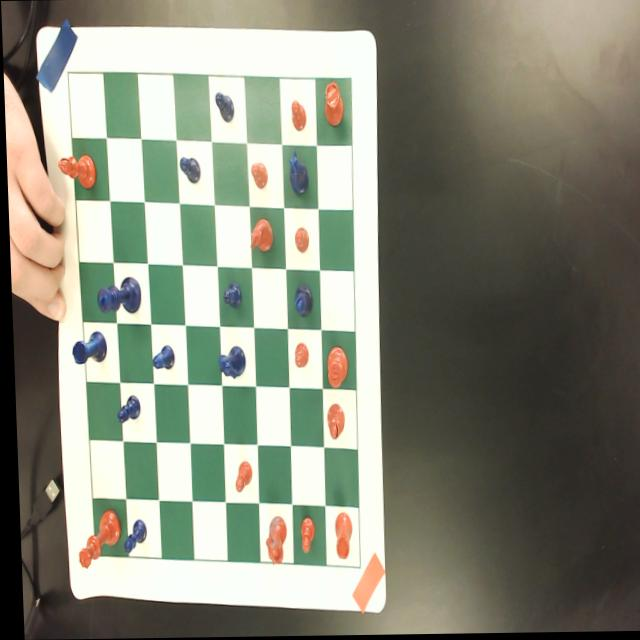B: (290, 282, 310, 319)
K: (94, 274, 139, 314)
N: (214, 344, 243, 381), (286, 147, 307, 196)
P: (117, 519, 142, 555), (111, 393, 138, 426), (212, 87, 233, 124), (177, 153, 199, 185), (219, 281, 240, 310), (149, 345, 171, 371)
R: (67, 329, 104, 365)
b: (55, 153, 94, 188), (323, 405, 342, 441)
k: (322, 346, 345, 388)
n: (260, 514, 283, 567), (246, 216, 271, 254)
p: (294, 516, 311, 555), (230, 461, 248, 493), (288, 100, 305, 132), (248, 162, 267, 190), (291, 228, 307, 254), (291, 342, 305, 368)
q: (72, 508, 117, 568)
r: (319, 82, 344, 128), (329, 511, 348, 563)
